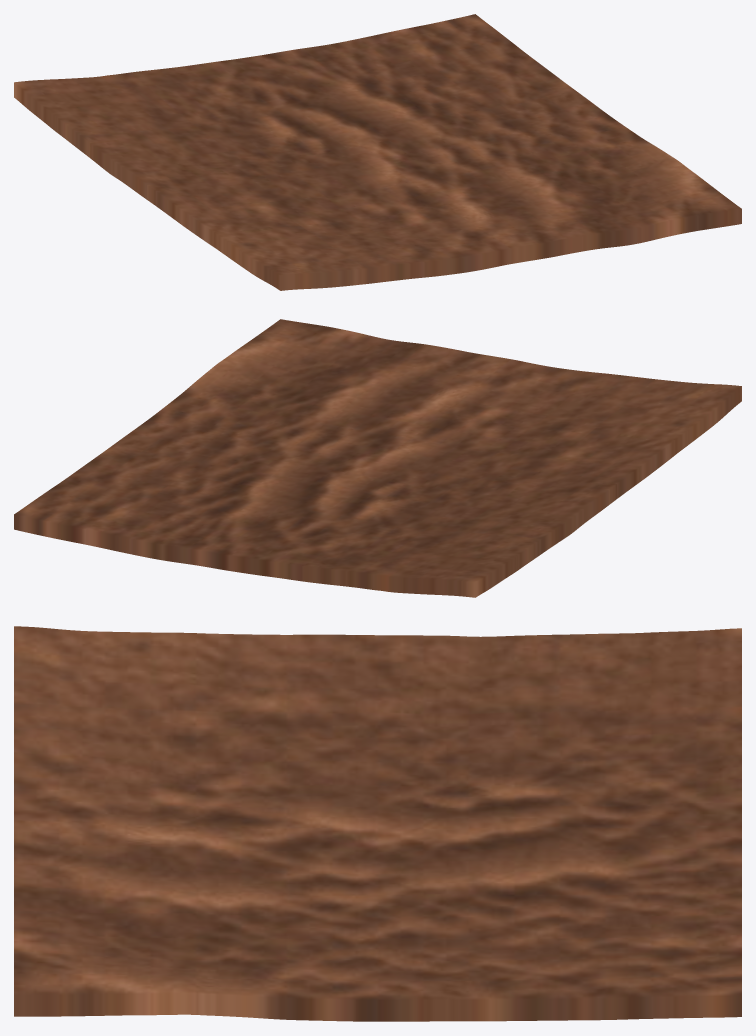
The picture shows the model from 3 angles, top to bottom: view 1: azimuth 30°, elevation 25°; view 2: azimuth 150°, elevation 25°; view 3: azimuth 270°, elevation 25°; orthographic projection. The views are drawn at different scales.
Parts seen in each view (by area): view 1: L8_150_98; view 2: L8_150_98; view 3: L8_150_98.
Part boxes in pixels (x1=…): L8_150_98: x1=14, y1=14, x2=741, y2=290; L8_150_98: x1=14, y1=319, x2=741, y2=597; L8_150_98: x1=14, y1=626, x2=741, y2=1021.
Size of the model in its own units: 56.27 by 7.5 by 56.28.
Materials: 1 (1 with a texture image).
